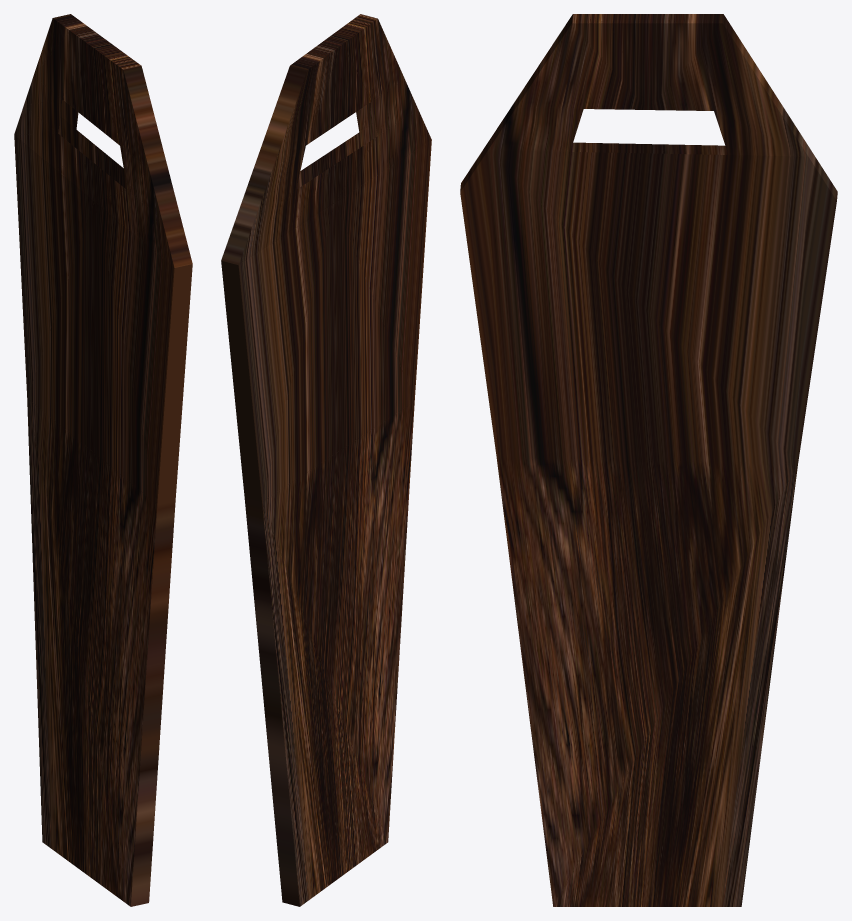
The model's file is Coffin_Door_PeekYes .glb.
3 renders of one model, left to right at view 1: azimuth 30°, elevation 25°; view 2: azimuth 150°, elevation 25°; view 3: azimuth 270°, elevation 25°, orthographic. The views are drawn at different scales.
Parts seen in each view (by area): view 1: Coffin_Lid_YesPeek; view 2: Coffin_Lid_YesPeek; view 3: Coffin_Lid_YesPeek.
Part boxes in pixels (bbox=[...]): Coffin_Lid_YesPeek: bbox=[14, 14, 192, 906]; Coffin_Lid_YesPeek: bbox=[221, 14, 431, 906]; Coffin_Lid_YesPeek: bbox=[460, 14, 837, 906].
Bounding box in the file's own units: 0.2246 × 5.18 × 2.
Materials: 1 (1 with a texture image).
